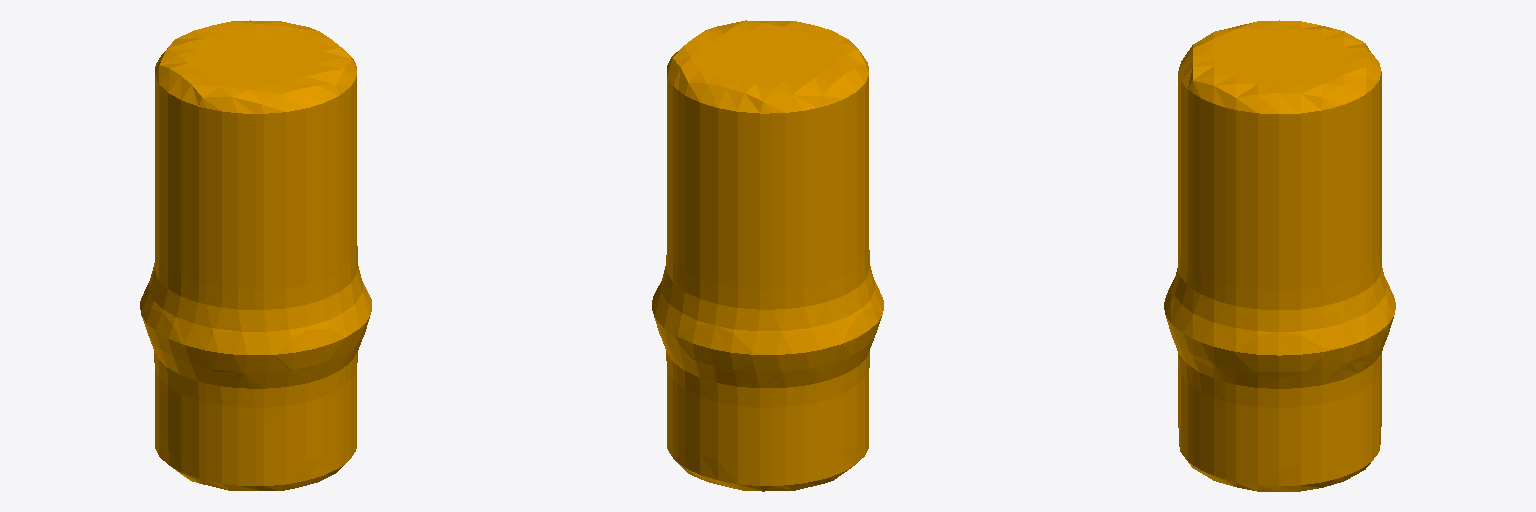
robot.urdf — cylinder_../../meshes/cylinders/cylinder_57.stl:
<?xml version="1.0" encoding="utf-8"?>  <robot name="cylinder_../../meshes/cylinders/cylinder_57.stl">   <link name="cylinder_../../meshes/cylinders/cylinder_57.stl">     <visual>       <geometry>         <mesh filename="../meshes/cylinders/cylinder_57.stl" scale="1 1 1"/>       </geometry>     </visual>     <collision>       <geometry>         <mesh filename="../meshes/cylinders/cylinder_57.stl" scale="1 1 1"/>       </geometry>     </collision>     <inertial>        <origin         xyz="0 0 0"         rpy="0 0 0" />       <mass value="0.1792843306501722"/>       <origin rpy="0 0 0" xyz="0 0 0"/>       <inertia ixx="0.0001738433624169633" ixy="-4.301106053732502e-09" ixz="-4.144741578191446e-09" iyy="0.00017384334260854033" iyz="-1.4568838688091965e-09" izz="5.064461744705028e-05"/>     </inertial>   </link>  </robot>

--- Render facts (derived) ---
The picture shows the robot from 3 angles, left to right: view 1: azimuth 30°, elevation 25°; view 2: azimuth 150°, elevation 25°; view 3: azimuth 270°, elevation 25°; orthographic projection.
Robot: cylinder_../../meshes/cylinders/cylinder_57.stl — 1 links, 0 joints (none); root link cylinder_../../meshes/cylinders/cylinder_57.stl; default pose: every joint at zero.
Links seen in each view (by area): view 1: cylinder_../../meshes/cylinders/cylinder_57.stl; view 2: cylinder_../../meshes/cylinders/cylinder_57.stl; view 3: cylinder_../../meshes/cylinders/cylinder_57.stl.
Boxes of the visible links, <box> form: cylinder_../../meshes/cylinders/cylinder_57.stl: <box>140,20,371,490</box>; cylinder_../../meshes/cylinders/cylinder_57.stl: <box>652,20,883,491</box>; cylinder_../../meshes/cylinders/cylinder_57.stl: <box>1164,20,1395,491</box>.
Bounding box of the posed robot: 0.0539 × 0.0539 × 0.1018 m (x, y, z).
1 mesh visuals loaded from 1 distinct referenced files (1 binary STL).